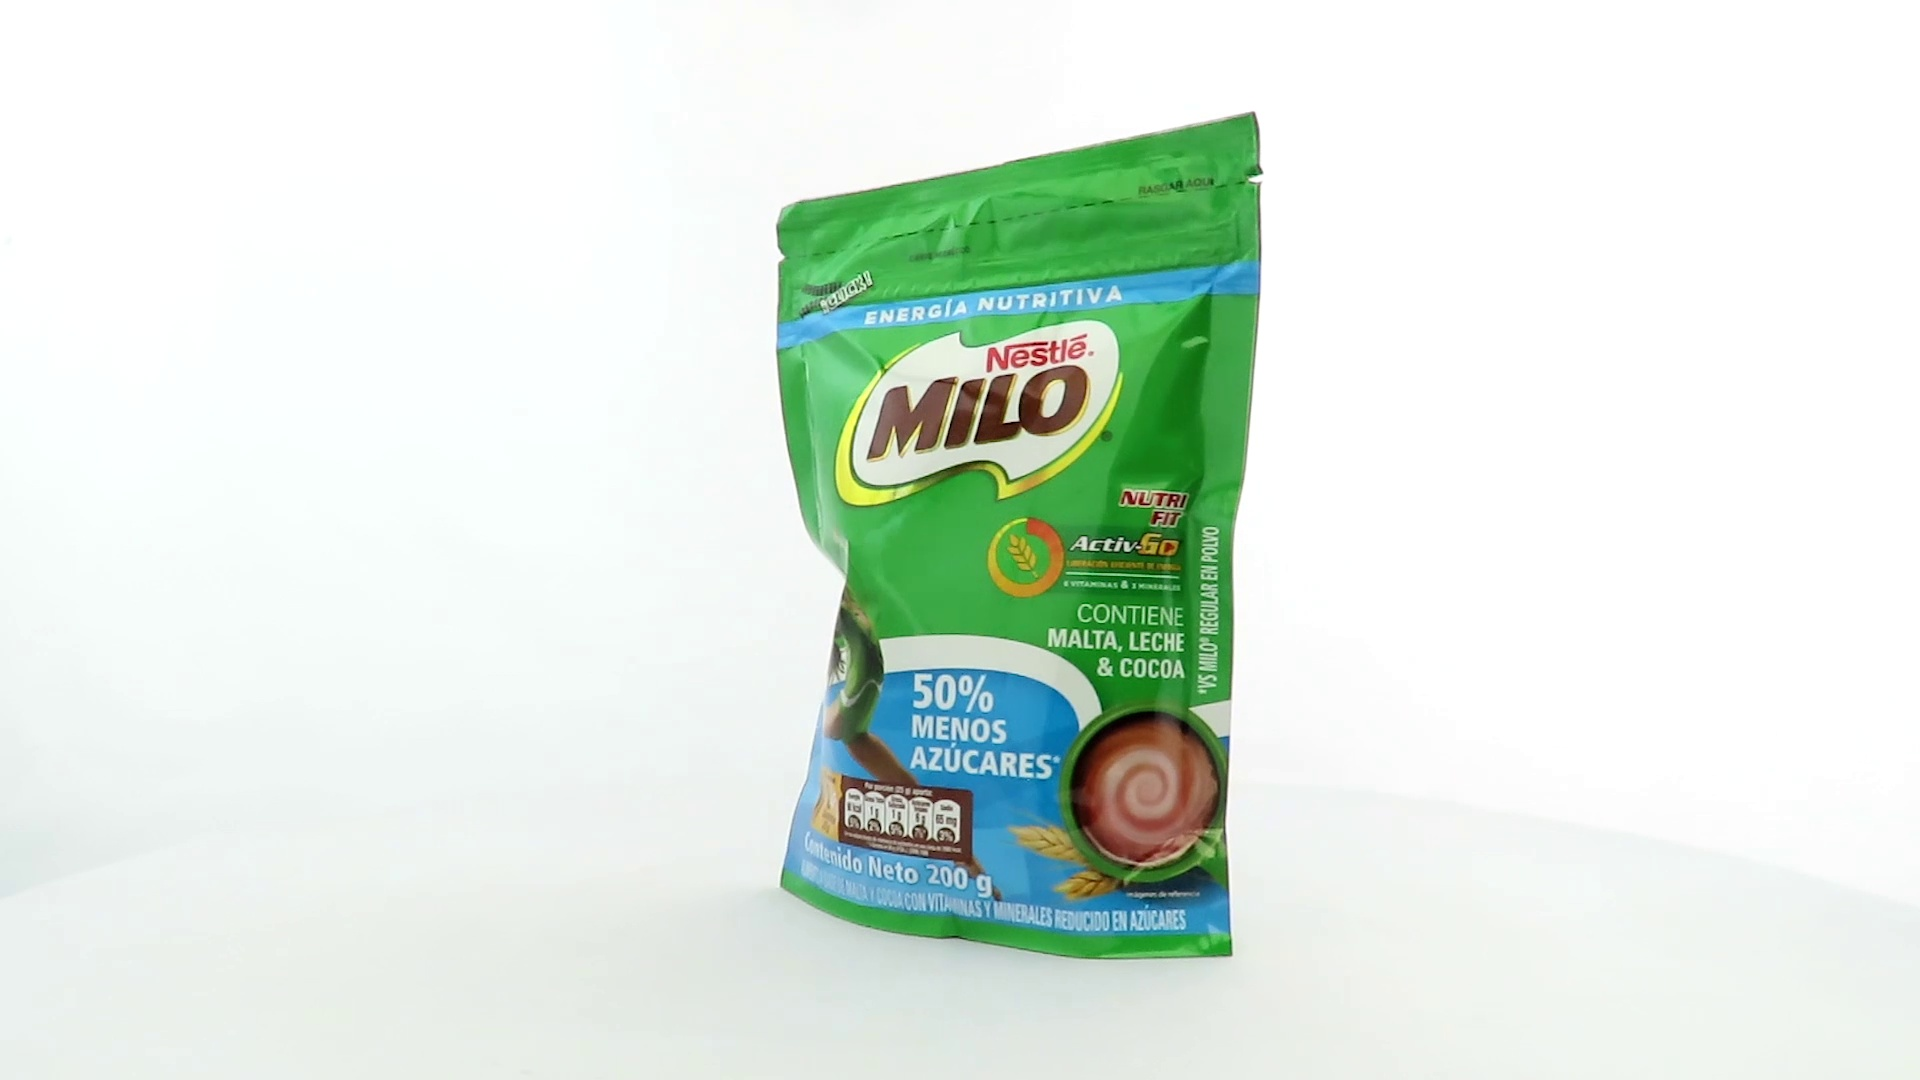COL0170205DYP20000: (771, 105, 1269, 967)
